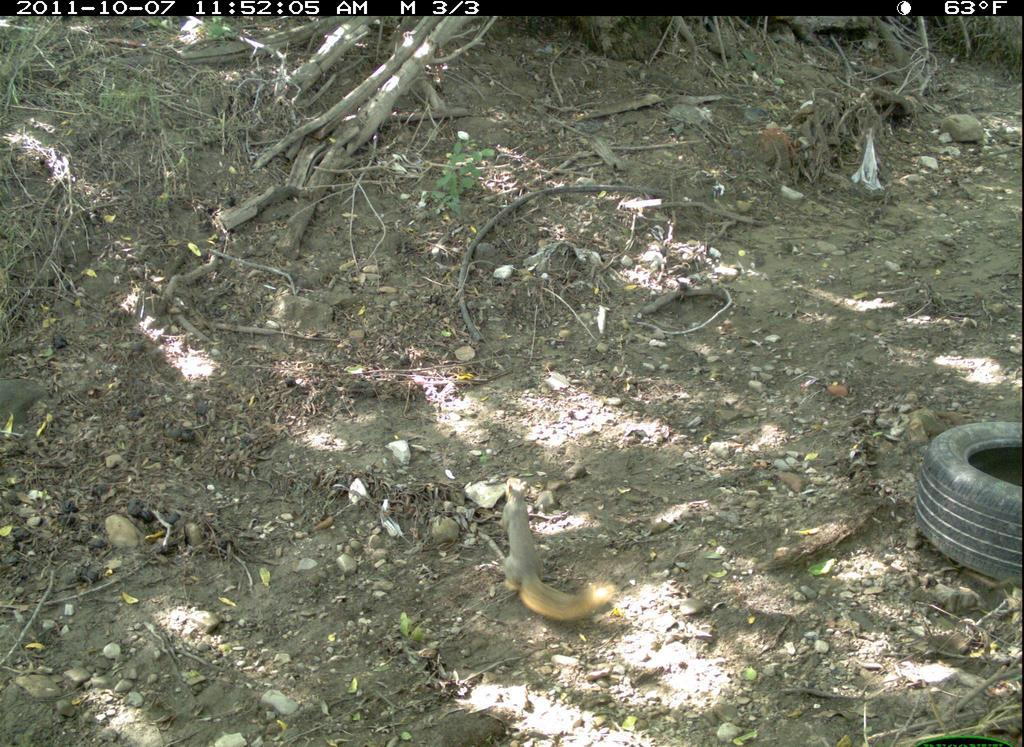squirrel: (488, 468, 626, 626)
